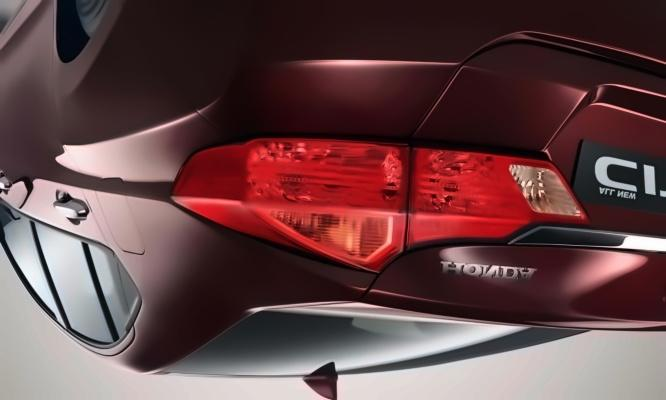Car boot: (325, 25, 666, 337)
Fender - -R-R-: (48, 0, 242, 326)
Rear bumper: (102, 0, 666, 132)
Rear light - -R-: (161, 129, 603, 278)
